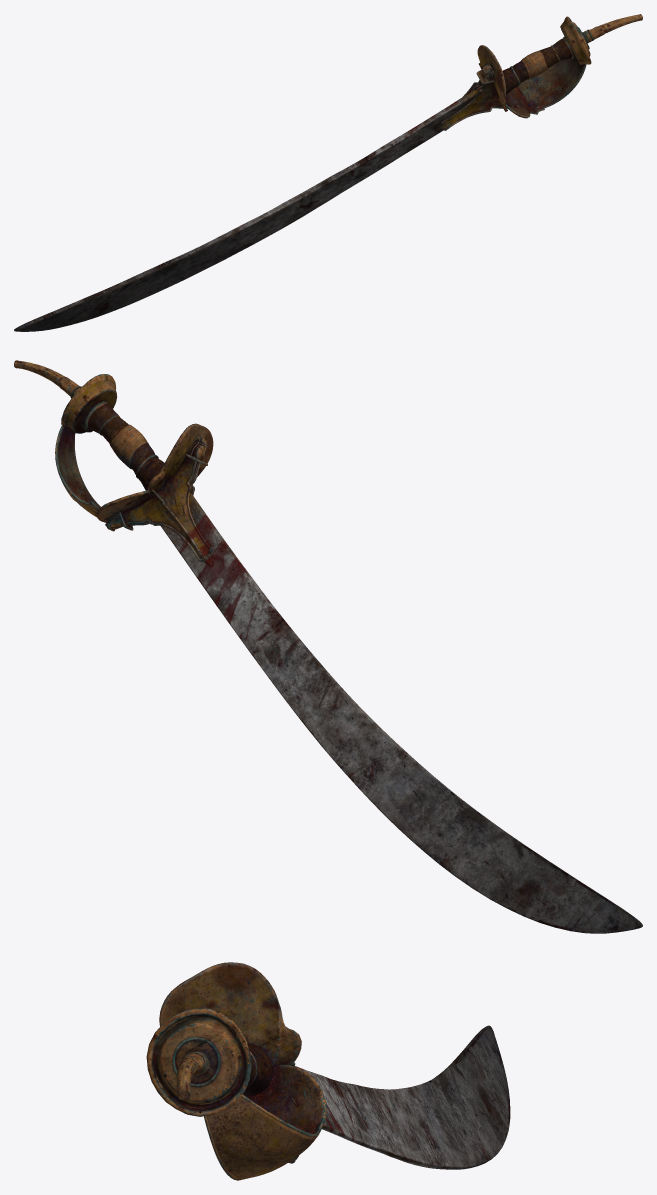
File: khanda._sword_india_1800s.glb
The picture shows the model from 3 angles, top to bottom: view 1: azimuth 30°, elevation 25°; view 2: azimuth 150°, elevation 25°; view 3: azimuth 270°, elevation 25°; orthographic projection. The views are drawn at different scales.
Visible parts, largest first — view 1: saber_1_blade_low.001, saber_1_e_low.001, saber_1_f_low.001, saber_1_b_low.001, saber_1_h_low.001, saber_1_i_low.001, saber_1_low1_9_low.001, saber_1_x_low.001, saber_1_c_low.001; view 2: saber_1_blade_low.001, saber_1_b_low.001, saber_1_h_low.001, saber_1_f_low.001, saber_1_i_low.001, saber_1_e_low.001, saber_1_low.001, saber_1_x_low.001, saber_1_c_low.001; view 3: saber_1_blade_low.001, saber_1_h_low.001, saber_1_i_low.001, saber_1_e_low.001, saber_1_c_low.001, saber_1_low1_9_low.001, saber_1_f_low.001, saber_1_d_low.001, saber_1_a_low.001.
Boxes of the visible parts, x1,y1,x2,y2 form: saber_1_blade_low.001: [14, 85, 481, 331]; saber_1_e_low.001: [517, 57, 584, 114]; saber_1_f_low.001: [502, 38, 571, 94]; saber_1_b_low.001: [438, 82, 501, 129]; saber_1_h_low.001: [560, 16, 591, 64]; saber_1_i_low.001: [477, 45, 507, 111]; saber_1_low1_9_low.001: [582, 14, 642, 43]; saber_1_x_low.001: [510, 45, 560, 84]; saber_1_c_low.001: [505, 86, 530, 118]; saber_1_blade_low.001: [160, 492, 642, 933]; saber_1_b_low.001: [124, 457, 209, 562]; saber_1_h_low.001: [61, 374, 117, 433]; saber_1_f_low.001: [88, 403, 164, 490]; saber_1_i_low.001: [147, 423, 213, 494]; saber_1_e_low.001: [57, 427, 100, 517]; saber_1_low.001: [126, 461, 212, 566]; saber_1_x_low.001: [99, 415, 158, 478]; saber_1_c_low.001: [96, 490, 155, 522]; saber_1_blade_low.001: [294, 1025, 510, 1169]; saber_1_h_low.001: [146, 1008, 251, 1116]; saber_1_i_low.001: [159, 962, 301, 1067]; saber_1_e_low.001: [206, 1096, 325, 1179]; saber_1_c_low.001: [244, 1064, 327, 1158]; saber_1_low1_9_low.001: [176, 1051, 208, 1100]; saber_1_f_low.001: [243, 1043, 272, 1096]; saber_1_d_low.001: [204, 1094, 318, 1180]; saber_1_a_low.001: [172, 1037, 220, 1086].
Bounding box in the file's own units: 67.06 × 30.06 × 19.18.
Materials: 1 (1 with a texture image).
